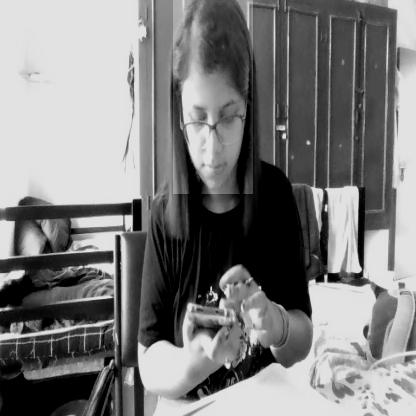Normal: (173, 0, 253, 194)
